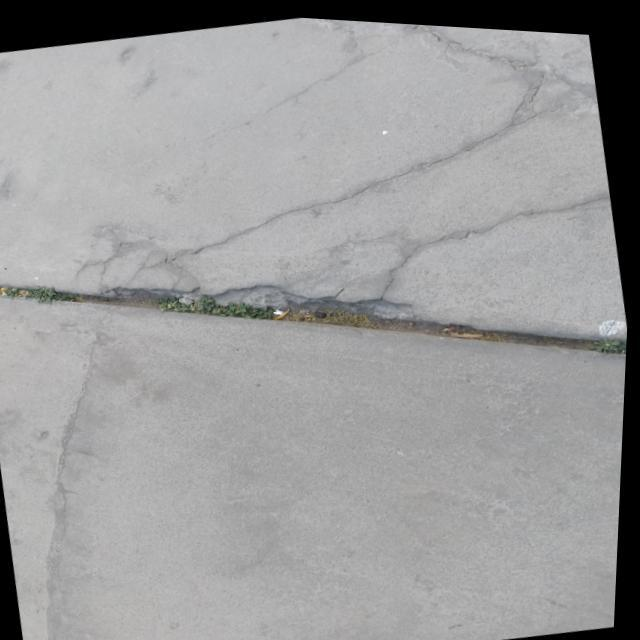hole: (101, 255, 440, 347)
